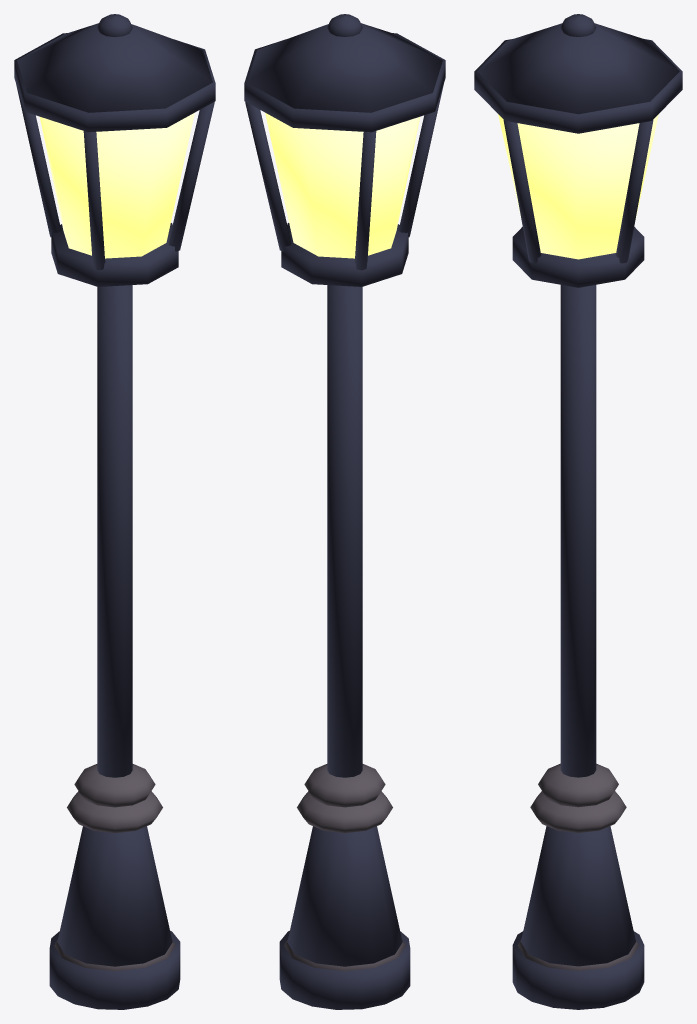
The model's file is Lamp.glb.
3 views of the same model, side by side, from view 1: azimuth 30°, elevation 25°; view 2: azimuth 150°, elevation 25°; view 3: azimuth 270°, elevation 25° (orthographic).
Visible parts, largest first — view 1: lamplighter__Lamp__iron, lamplighter__Lamp__glass; view 2: lamplighter__Lamp__iron, lamplighter__Lamp__glass; view 3: lamplighter__Lamp__iron, lamplighter__Lamp__glass.
Boxes of the visible parts, x1,y1,x2,y2 form: lamplighter__Lamp__iron: (14, 14, 215, 1009); lamplighter__Lamp__glass: (40, 112, 194, 258); lamplighter__Lamp__iron: (244, 14, 445, 1009); lamplighter__Lamp__glass: (265, 112, 419, 258); lamplighter__Lamp__iron: (474, 14, 682, 1009); lamplighter__Lamp__glass: (498, 114, 658, 259).
Size of the model in its own units: 0.41 by 2.1 by 0.41.
